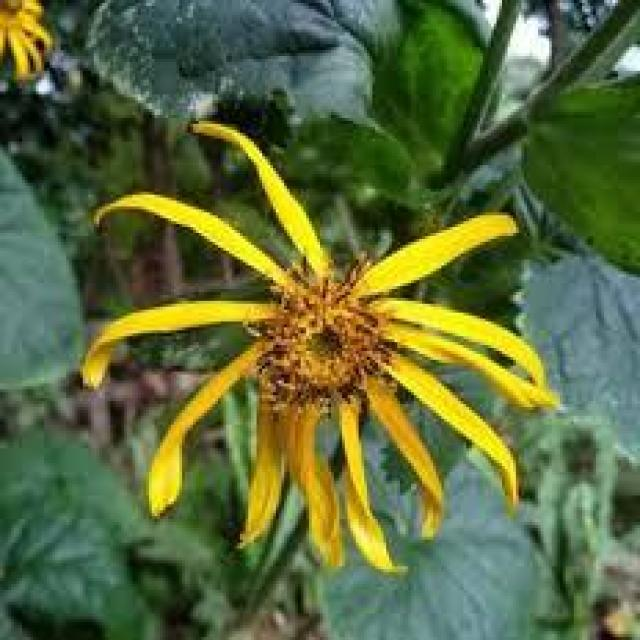organic waste: (53, 116, 580, 565)
